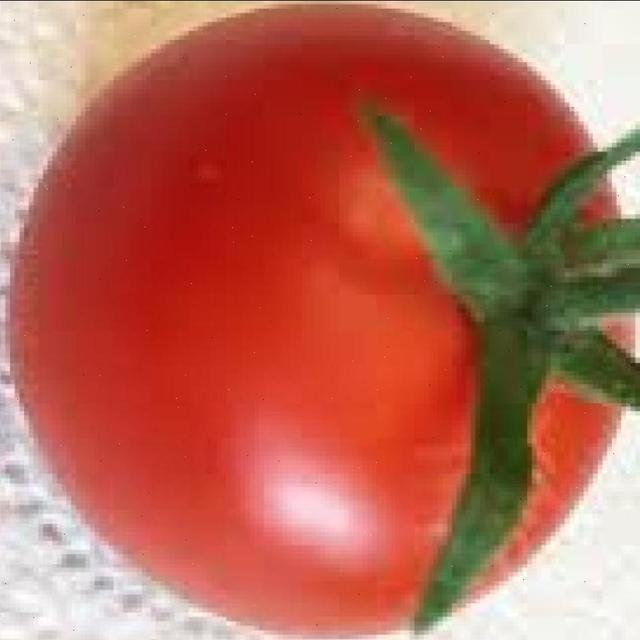Healthy Fruit: (8, 6, 417, 408)
